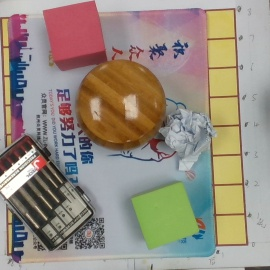chess: (79, 60, 167, 152)
